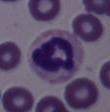N: (27, 29, 84, 84)
